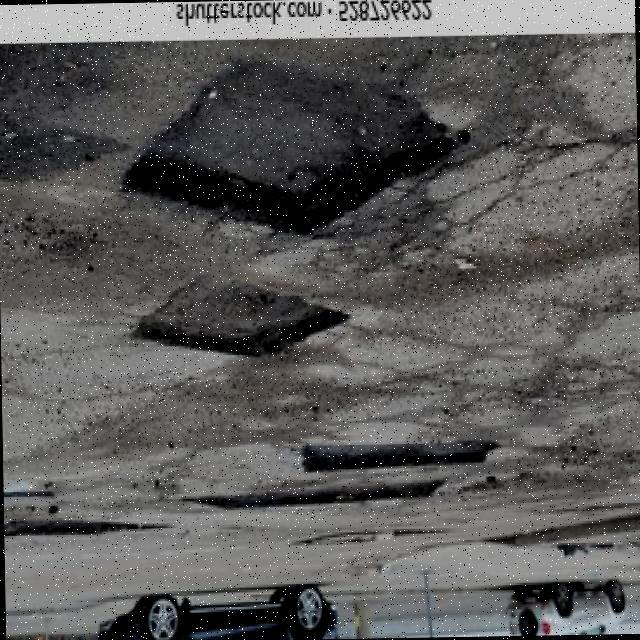Pothole: (120, 60, 471, 233), (131, 291, 350, 356), (181, 480, 450, 509), (490, 513, 640, 546), (303, 445, 489, 471), (6, 518, 172, 536)
